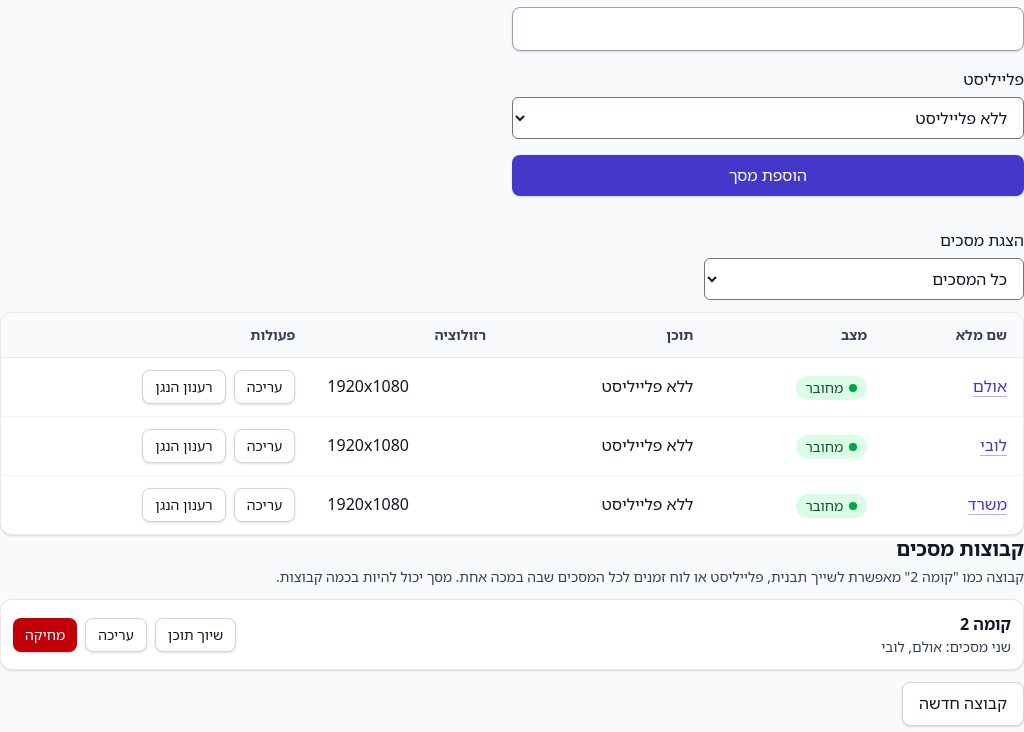
Scenario: screen groups › creates a group with checkboxes, and assigns content to it, keeping the rest
(page scrolled)
Click the button "קבוצה חדשה": x=963, y=704 top-left (902, 682), bottom-right (1023, 726)
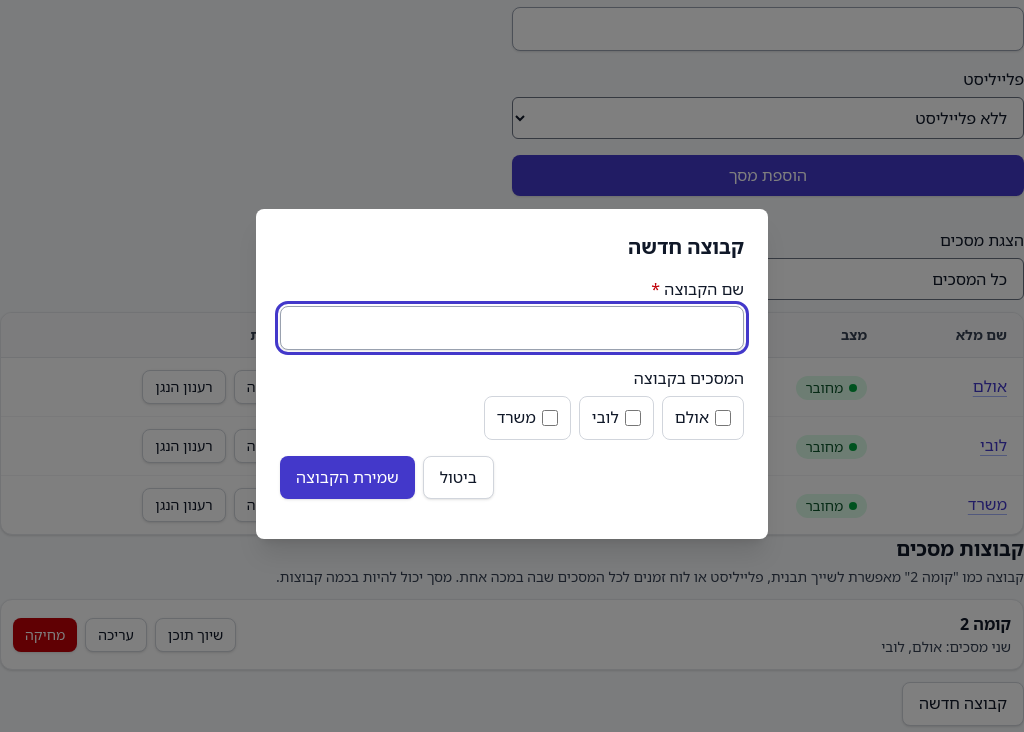
In the field labelled "שם הקבוצה *": x=512, y=328 top-left (280, 306), bottom-right (744, 350), type "משרדים"
Click the checkbox labelled "משרד": x=550, y=418 top-left (542, 410), bottom-right (558, 426)
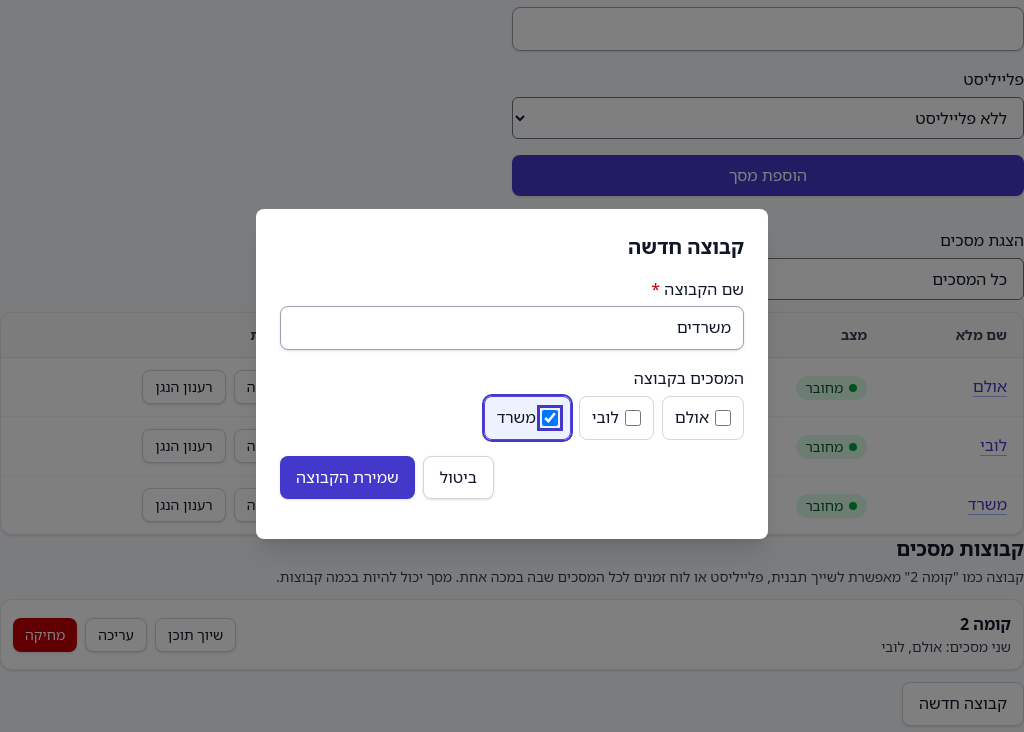
Click the button "שמירת הקבוצה": x=347, y=477 top-left (280, 456), bottom-right (415, 499)
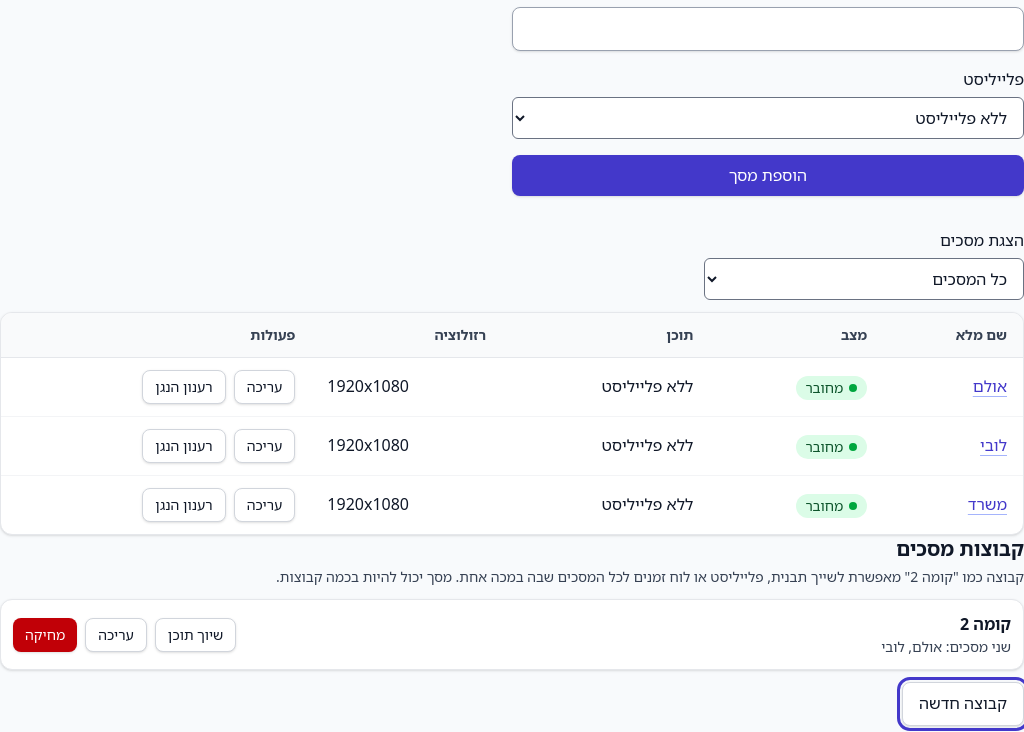
Click the button "שיוך תוכן": x=196, y=634 top-left (155, 618), bottom-right (236, 652)
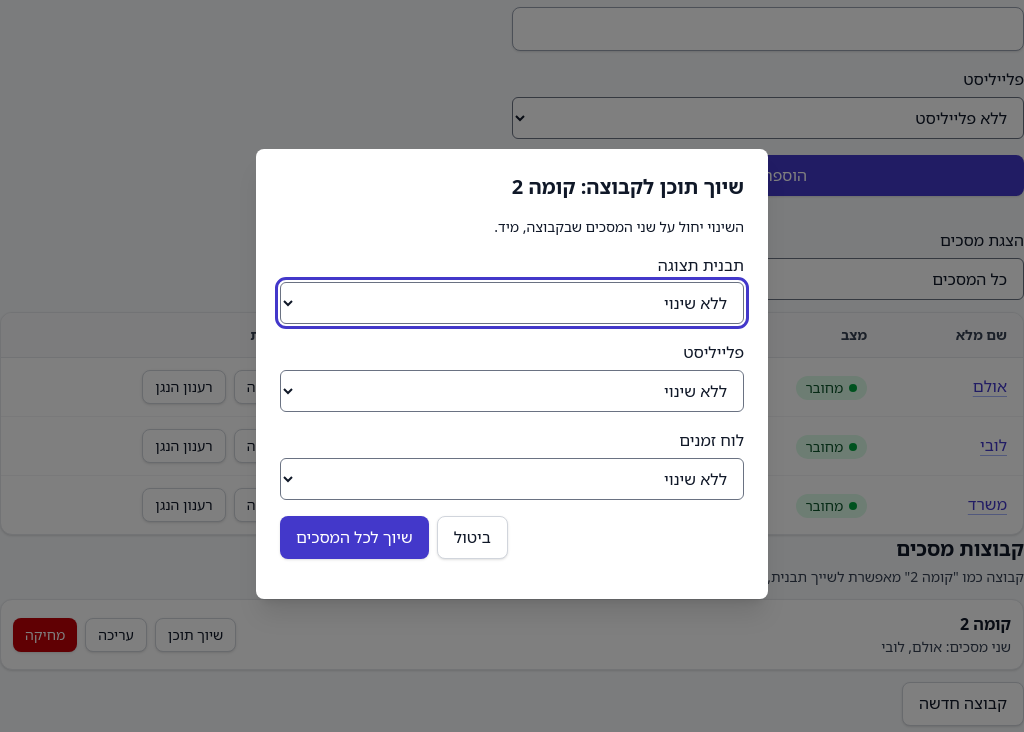
Check: the text "השינוי יחול על שני המסכים שבקבוצה, מיד." is shown, box top-left (494, 217), bottom-right (744, 236)
Check: the dropdown labelled "לוח זמנים" shows "ללא שינוי", box top-left (280, 458), bottom-right (744, 500)
Select "חדשות" in the dropdown labelled "פלייליסט": x=512, y=391 top-left (280, 370), bottom-right (744, 412)
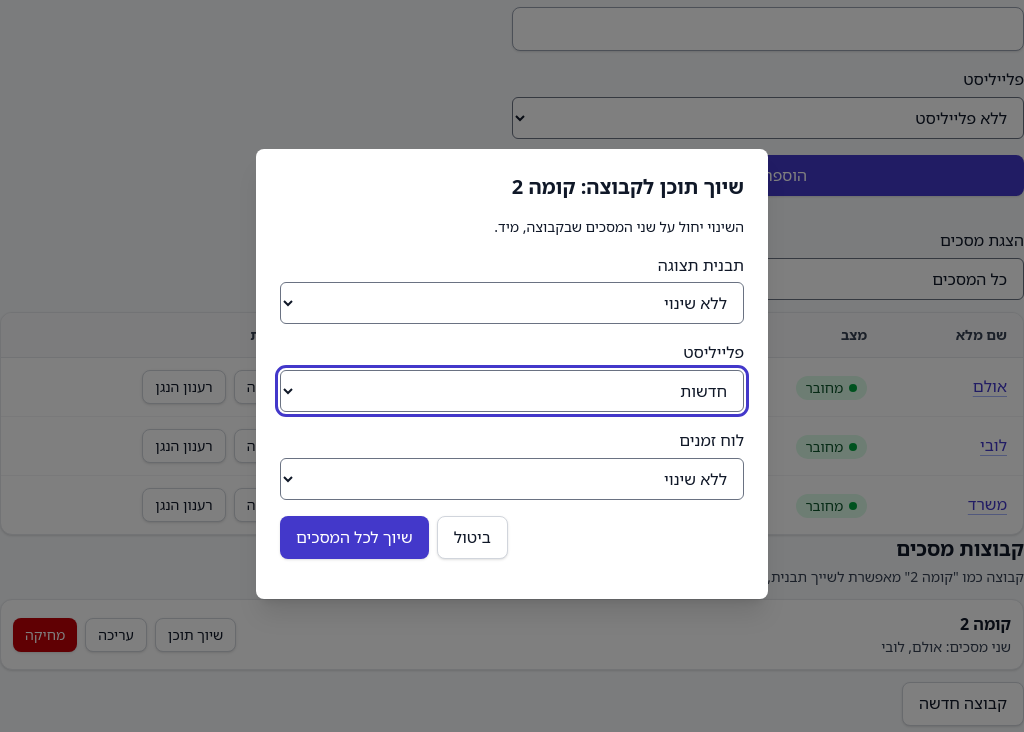
Click the button "שיוך לכל המסכים": x=354, y=537 top-left (280, 516), bottom-right (429, 559)
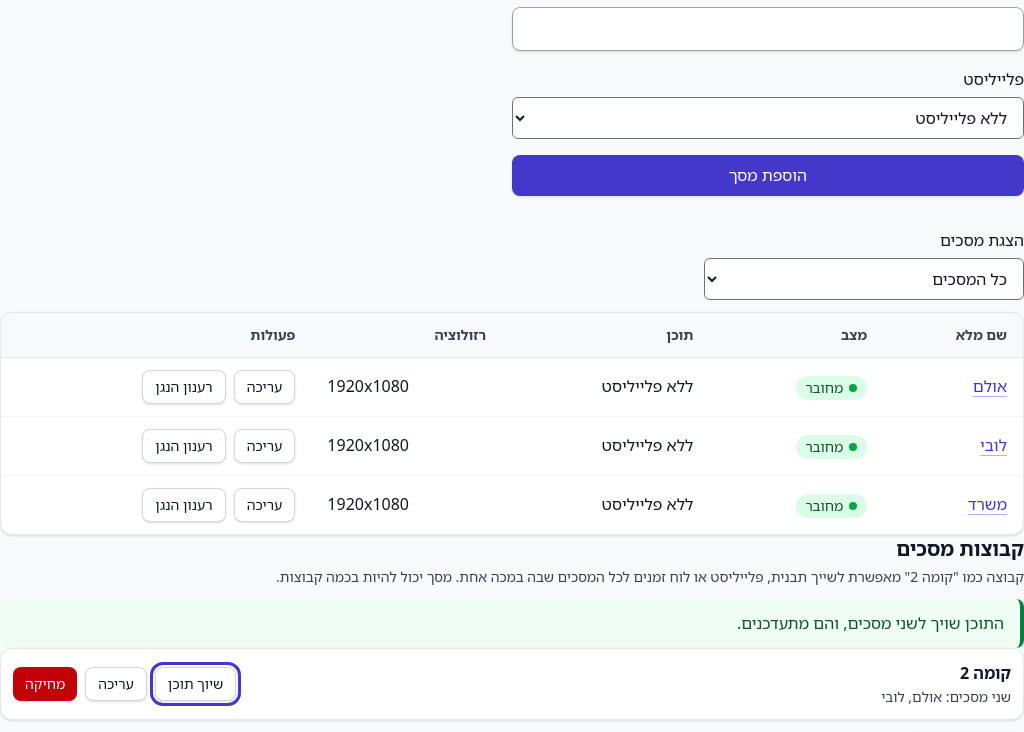
Check: the text "התוכן שויך לשני מסכים, והם מתעדכנים." is shown, box top-left (0, 599), bottom-right (1023, 648)
